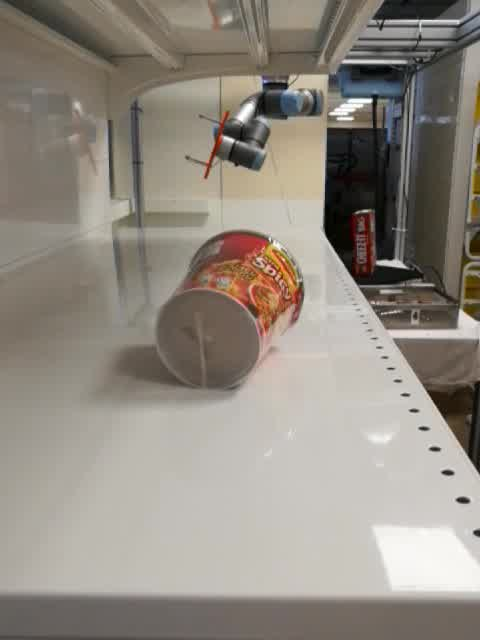maggi: (151, 229, 305, 393)
